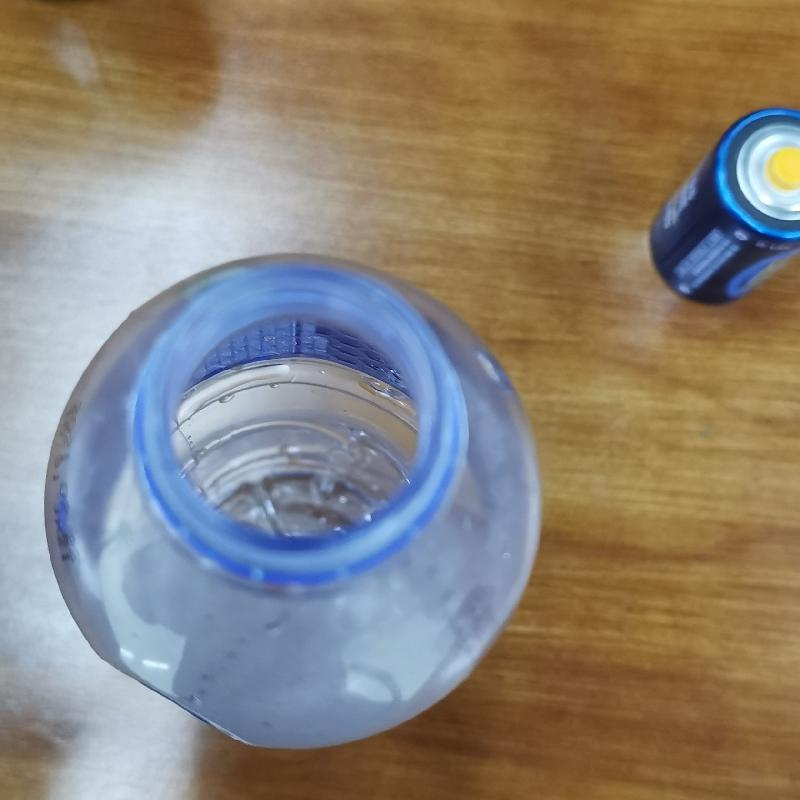bottles: (40, 252, 547, 754)
